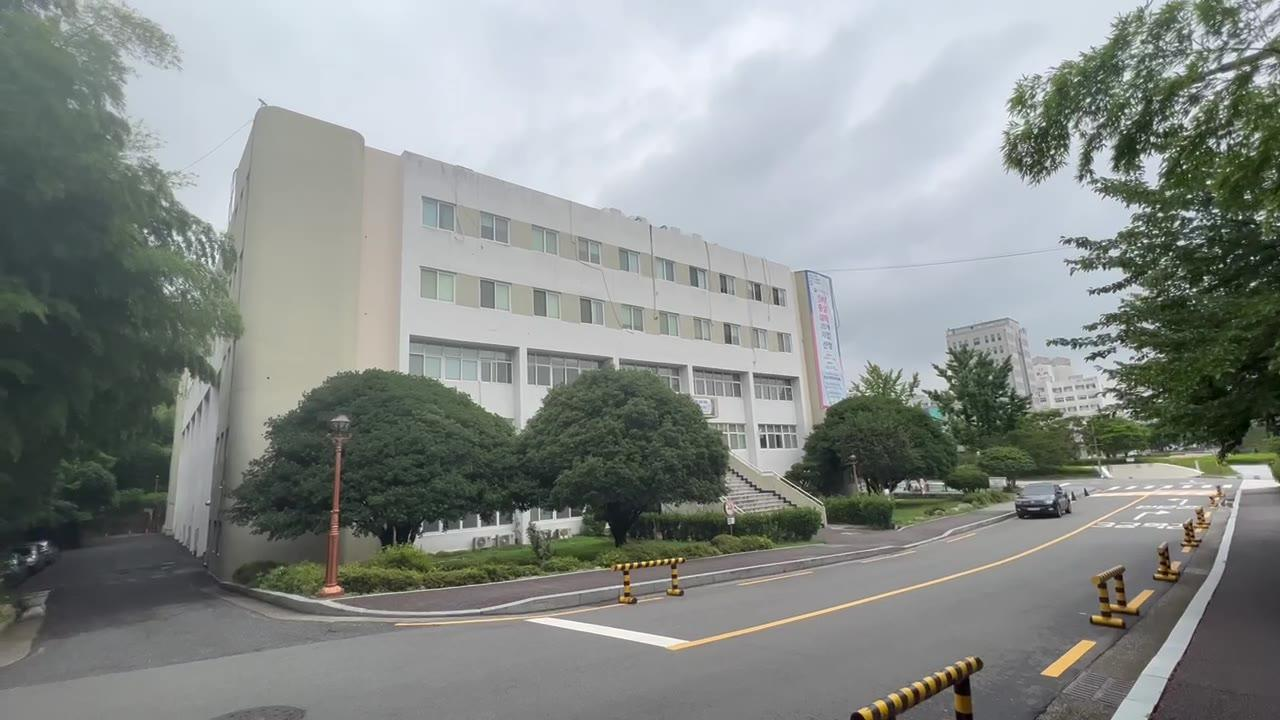building: (249, 138, 787, 376)
